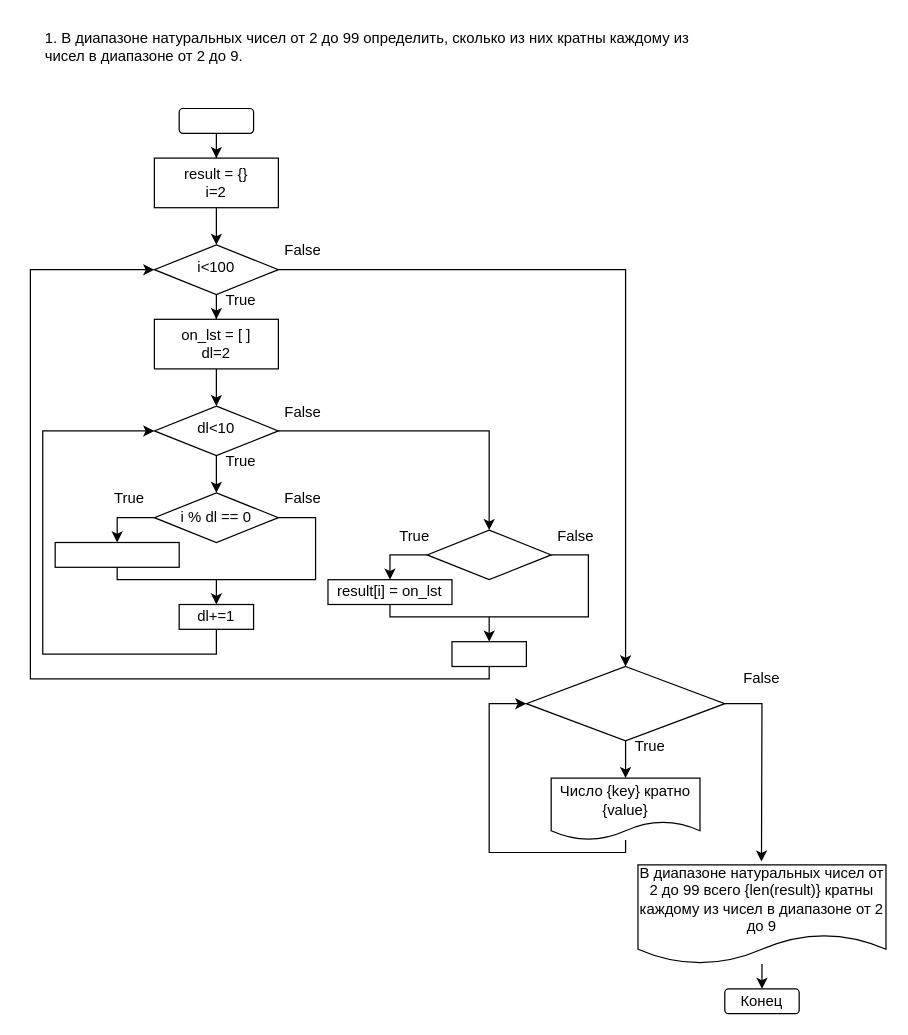
This 908x1035 diagram has some shape labels left out. Each missing label, with the centre of its shape:
i+=1: the point at 488,653
key, value in result.items(): the point at 625,703
on_lst не пуст: the point at 488,554
on_lst.append(dl): the point at 116,554
Начало: the point at 216,120
